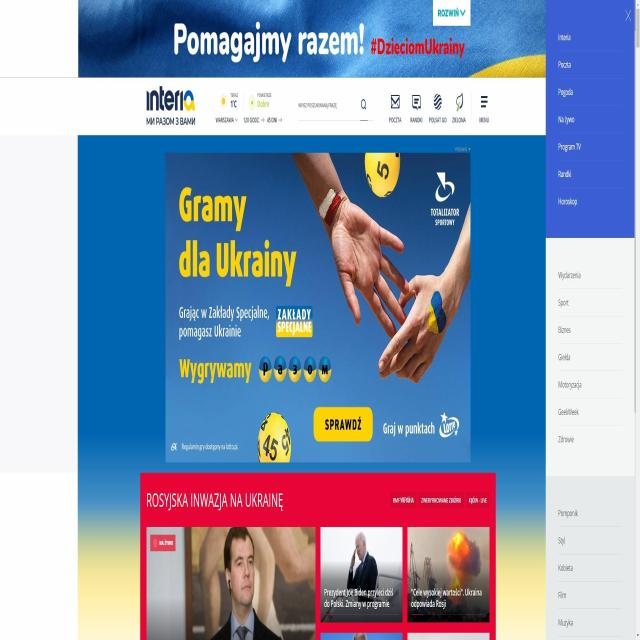button: (428, 89, 448, 124), (387, 86, 403, 124), (408, 88, 424, 124), (477, 90, 491, 126), (452, 89, 466, 124)
input: (293, 94, 357, 118)
select: (434, 0, 471, 26)
